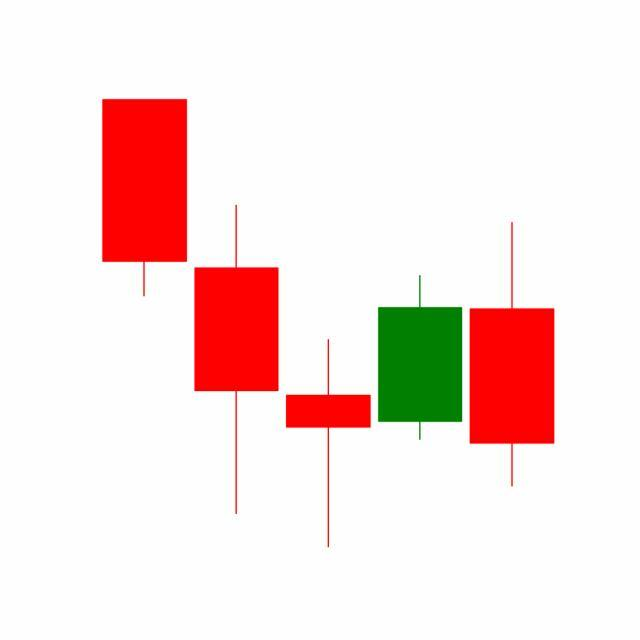Morning Star: (190, 201, 467, 549)
